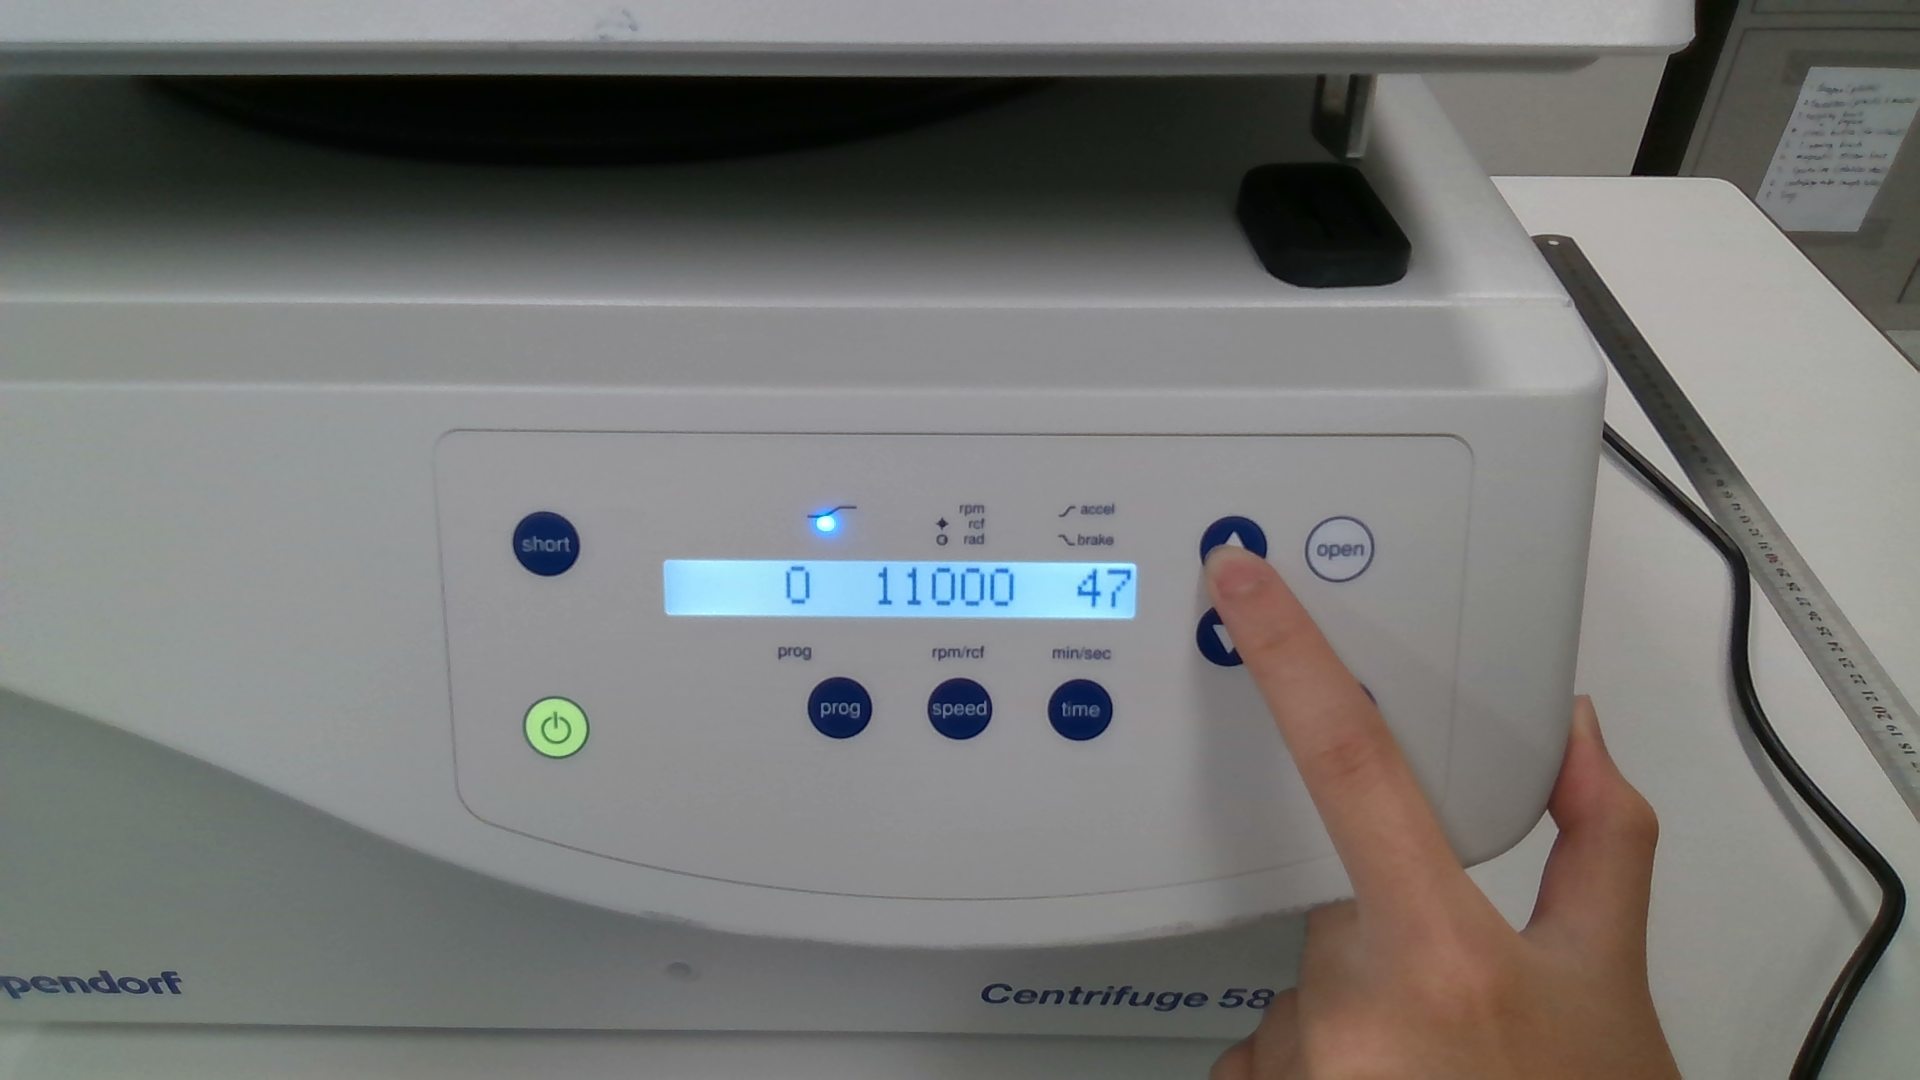0: (786, 566, 811, 605), (931, 567, 956, 607), (960, 568, 985, 607), (989, 568, 1014, 607)
1: (902, 567, 927, 607), (872, 567, 897, 607)
4: (1077, 568, 1102, 608)
7: (1106, 568, 1131, 608)
open_off: (1304, 516, 1375, 584)
power_on: (522, 696, 589, 760)
